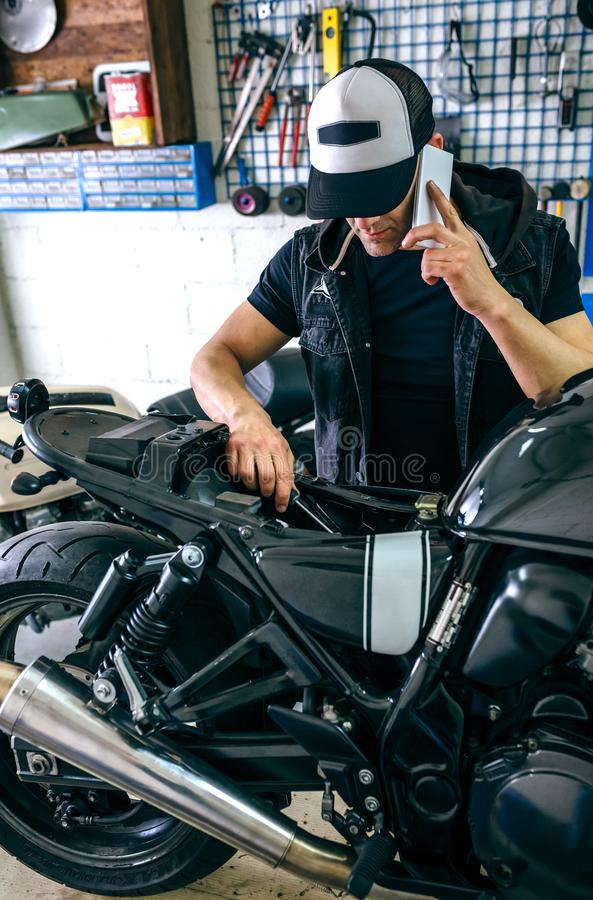su dung dien thoai: (309, 56, 484, 315)
